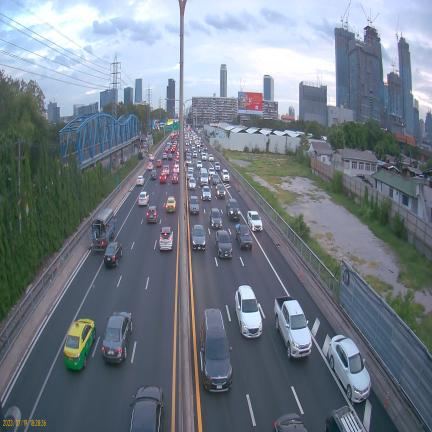car: (328, 335, 371, 402), (200, 309, 232, 391), (102, 311, 132, 363), (235, 285, 262, 338), (215, 230, 233, 257), (235, 223, 253, 249), (104, 242, 122, 266), (191, 225, 206, 250), (159, 227, 173, 250), (247, 211, 263, 231), (209, 208, 222, 228), (147, 206, 158, 223), (189, 196, 199, 214), (215, 183, 226, 198), (138, 191, 149, 206), (202, 186, 211, 200), (221, 169, 230, 182), (188, 177, 196, 190), (212, 173, 220, 185), (326, 429, 330, 432), (219, 231, 220, 233), (194, 156, 195, 157), (221, 221, 221, 225)
pickup: (274, 296, 312, 358), (226, 199, 240, 220)
taxi: (63, 319, 96, 370), (166, 196, 176, 212)
truck: (92, 208, 116, 250)
van: (200, 168, 208, 185)
